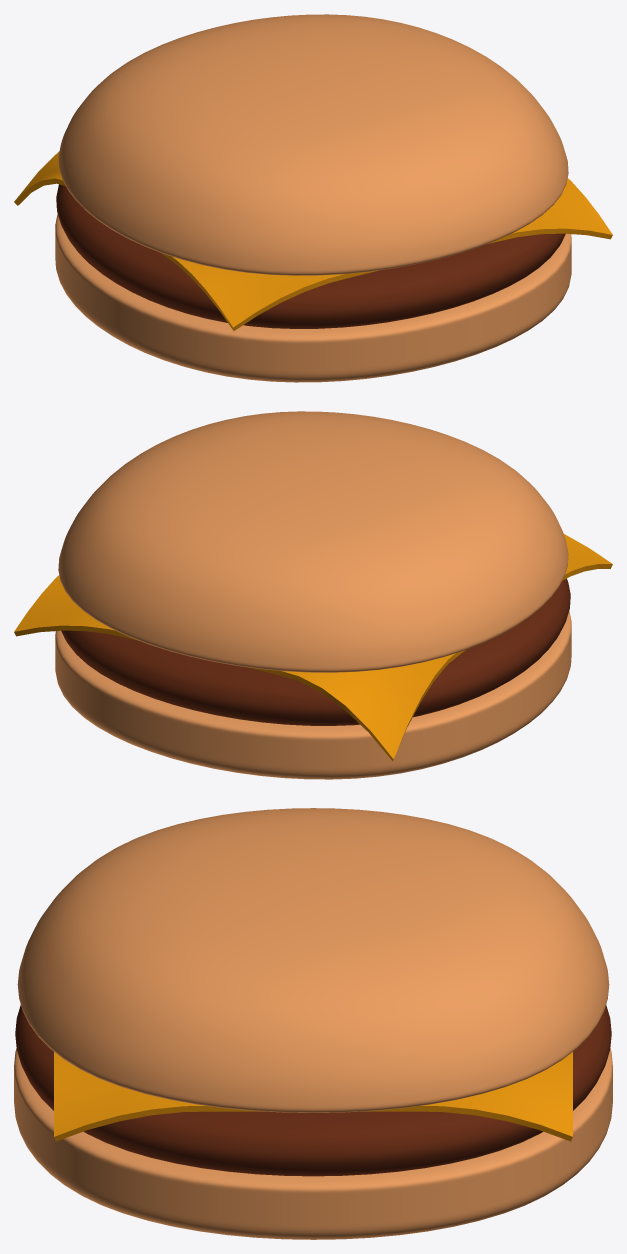
The model's file is hamburger.glb.
3 renders of one model, top to bottom at view 1: azimuth 30°, elevation 25°; view 2: azimuth 150°, elevation 25°; view 3: azimuth 270°, elevation 25°, orthographic. The views are drawn at different scales.
Visible parts, largest first — view 1: Cube.002, Cube, Cube.001, Plane; view 2: Cube.002, Cube, Cube.001, Plane; view 3: Cube.002, Cube, Cube.001, Plane.
Boxes of the visible parts, <box> form: Cube.002: <box>58,14,568,275</box>; Cube: <box>55,214,571,382</box>; Cube.001: <box>56,184,565,328</box>; Plane: <box>14,151,612,330</box>; Cube.002: <box>58,411,568,672</box>; Cube: <box>55,611,571,779</box>; Cube.001: <box>61,578,570,725</box>; Plane: <box>14,534,612,761</box>; Cube.002: <box>17,808,609,1112</box>; Cube: <box>14,1048,612,1239</box>; Cube.001: <box>15,1004,611,1176</box>; Plane: <box>54,1052,572,1141</box>.
Size of the model in its own units: 7.08 by 3.44 by 7.08.
